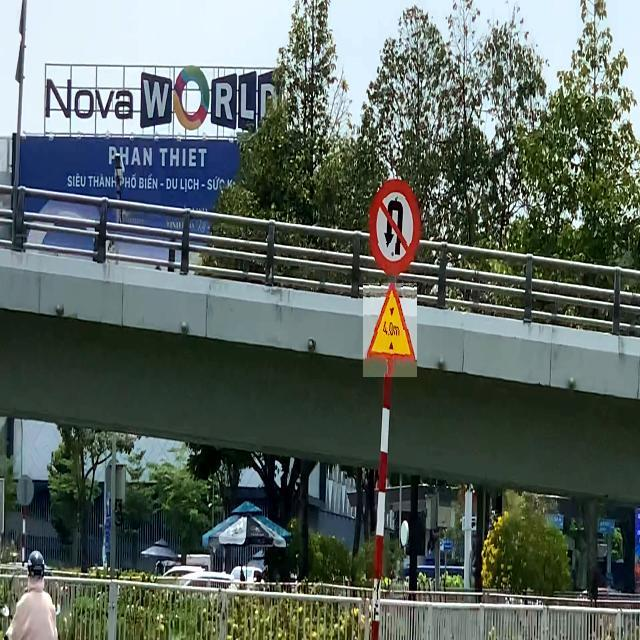P-124a: (368, 175, 423, 276)
S-509a: (363, 284, 417, 378)
